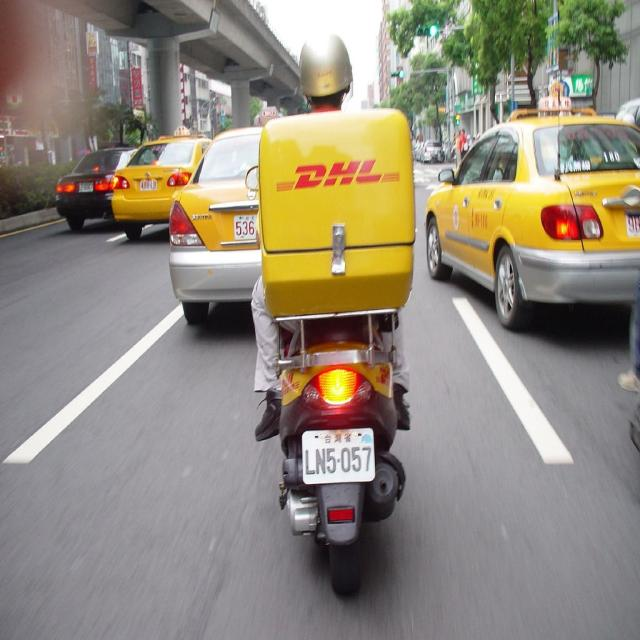dhl: (271, 156, 409, 198)
